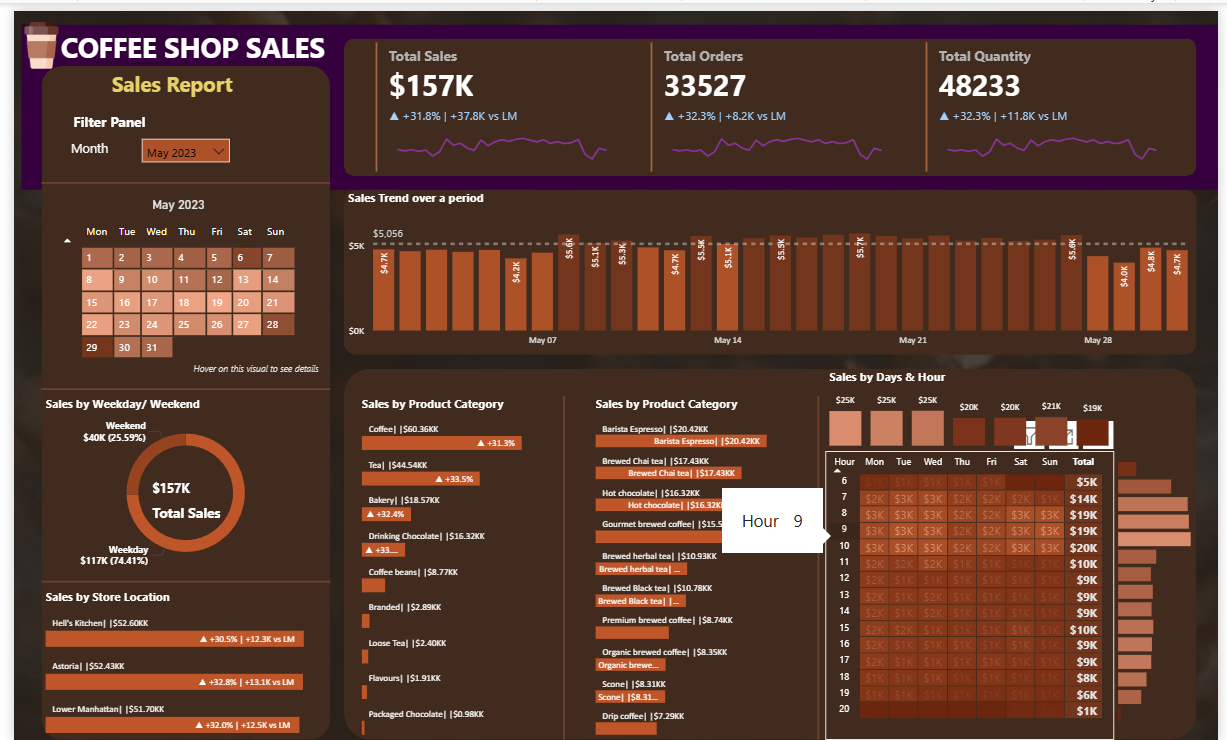

The dashboard page shown, as its layout file describes it:
{"tool":"powerbi","page":{"name":"Page 1","canvas":[1400,850],"ordinal":0},"visuals":[{"type":"shape","box":[8,16,1392,192],"z":0},{"type":"shape","box":[32,64,336,784],"z":1000},{"type":"shape","box":[384,32,992,160],"z":2000},{"type":"textbox","box":[32,16,352,64],"z":3000},{"type":"slicer","fields":{"Values":["Date Table.Month Year"]},"box":[144,144,112,32],"z":4000},{"type":"group","id":"g1","title":"Group 1","box":[416,32,288,160],"z":5000,"group":"g4"},{"type":"cardVisual","fields":{"Data":["Transactions.Total Sales"]},"box":[416,32,288,160],"z":5000,"group":"g1"},{"type":"cardVisual","fields":{"Data":["Transactions.Total Orders"]},"box":[736,32,288,160],"z":5000,"group":"g2"},{"type":"cardVisual","fields":{"Data":["Transactions.Total Quantity"]},"box":[1056,32,288,160],"z":5000,"group":"g3"},{"type":"pivotTable","fields":{"Rows":["Date Table.Week Number"],"Values":["Min(Date Table.Day Number)"],"Columns":["Date Table.Day Name"]},"box":[48,240,288,176],"z":5000},{"type":"group","id":"g2","title":"Group 1","box":[736,32,288,160],"z":6000,"group":"g4"},{"type":"lineChart","fields":{"Y":["Transactions.Total Sales"],"Category":["Date Table.Date.Variation.Date Hierarchy.Year","Date Table.Date.Variation.Date Hierarchy.Quarter","Date Table.Date.Variation.Date Hierarchy.Month","Date Table.Date.Variation.Date Hierarchy.Day"]},"box":[432,112,272,80],"z":6000,"group":"g1"},{"type":"lineChart","fields":{"Y":["Transactions.Total Sales"],"Category":["Date Table.Date.Variation.Date Hierarchy.Year","Date Table.Date.Variation.Date Hierarchy.Quarter","Date Table.Date.Variation.Date Hierarchy.Month","Date Table.Date.Variation.Date Hierarchy.Day"]},"box":[752,112,272,80],"z":6000,"group":"g2"},{"type":"lineChart","fields":{"Y":["Transactions.Total Sales"],"Category":["Date Table.Date.Variation.Date Hierarchy.Year","Date Table.Date.Variation.Date Hierarchy.Quarter","Date Table.Date.Variation.Date Hierarchy.Month","Date Table.Date.Variation.Date Hierarchy.Day"]},"box":[1072,112,272,80],"z":6000,"group":"g3"},{"type":"cardVisual","fields":{"Data":["Min(Date Table.Month Year)"]},"box":[144,192,112,48],"z":6000},{"type":"group","id":"g3","title":"Group 1","box":[1056,32,288,160],"z":7000,"group":"g4"},{"type":"cardVisual","fields":{"Data":["Transactions.Foot Note"]},"box":[192,384,192,48],"z":7000},{"type":"shape","box":[32,432,336,16],"z":8000},{"type":"shape","box":[32,192,336,16],"z":9000},{"type":"donutChart","title":" Sales by Weekday/ Weekend","fields":{"Category":["Date Table.Weekday/ Weekend"],"Y":["Transactions.Total Sales"]},"box":[32,448,336,208],"z":10000},{"type":"cardVisual","fields":{"Data":["Transactions.Total Sales"]},"box":[144,528,128,80],"z":11000},{"type":"shape","box":[32,656,336,16],"z":12000},{"type":"clusteredBarChart","title":"Sales by Store Location","fields":{"Category":["Transactions.store_location"],"Y":["Transactions.Placeholder","Transactions.Total Sales"]},"box":[32,672,336,176],"z":13000},{"type":"shape","box":[384,208,992,192],"z":14000},{"type":"columnChart","title":"Sales Trend over a period","fields":{"Category":["Transactions.transaction_date"],"Y":["Transactions.Total Sales"]},"box":[384,208,992,192],"z":15000},{"type":"shape","box":[384,416,992,432],"z":16000},{"type":"clusteredBarChart","title":"Sales by Product Category","fields":{"Y":["Transactions.Placeholder","Transactions.Total Sales"],"Category":["Transactions.product_category"]},"box":[400,448,224,400],"z":17000},{"type":"shape","box":[624,448,32,400],"z":18000},{"type":"clusteredBarChart","title":"Sales by Product Category","fields":{"Y":["Transactions.Placeholder","Transactions.Total Sales"],"Category":["Transactions.product_type"]},"box":[672,448,240,400],"z":19000},{"type":"shape","box":[928,448,16,400],"z":20000},{"type":"pivotTable","fields":{"Rows":["Transactions.Hour"],"Columns":["Date Table.Day Name"],"Values":["Transactions.Total Sales"]},"box":[944,512,336,336],"z":21000},{"type":"barChart","fields":{"Category":["Transactions.Hour"],"Y":["Transactions.Total Sales"]},"box":[1280,512,96,320],"z":22000},{"type":"columnChart","title":"Sales by Days & Hour","fields":{"Y":["Transactions.Total Sales"],"Category":["Date Table.Day Name"]},"box":[944,416,336,96],"z":23000},{"type":"group","id":"g4","title":"Group 2","box":[416,32,928,160],"z":24000},{"type":"textbox","box":[48,144,80,32],"z":25000},{"type":"textbox","box":[96,64,176,48],"z":26000},{"type":"textbox","box":[64,112,144,32],"z":27000},{"type":"image","box":[0,0,64,80],"z":28000}]}

Visuals, with their boxes in screenshot pixels (x1, y1, x2, y2), scaled from the page's 1400x850 canvas onto the 1227x740 screenshot:
shape: detection(7, 14, 1226, 181)
shape: detection(28, 56, 323, 738)
shape: detection(337, 28, 1206, 167)
textbox: detection(28, 14, 337, 70)
slicer - Date Table.Month Year: detection(126, 125, 224, 153)
"Group 1" group: detection(365, 28, 617, 167)
cardVisual - Transactions.Total Sales: detection(365, 28, 617, 167)
cardVisual - Transactions.Total Orders: detection(645, 28, 897, 167)
cardVisual - Transactions.Total Quantity: detection(926, 28, 1178, 167)
pivotTable - Date Table.Week Number x Min(Date Table.Day Number): detection(42, 209, 294, 362)
"Group 1" group: detection(645, 28, 897, 167)
lineChart - Transactions.Total Sales x Date Table.Date.Variation.Date Hierarchy.Year: detection(379, 98, 617, 167)
lineChart - Transactions.Total Sales x Date Table.Date.Variation.Date Hierarchy.Year: detection(659, 98, 897, 167)
lineChart - Transactions.Total Sales x Date Table.Date.Variation.Date Hierarchy.Year: detection(940, 98, 1178, 167)
cardVisual - Min(Date Table.Month Year): detection(126, 167, 224, 209)
"Group 1" group: detection(926, 28, 1178, 167)
cardVisual - Transactions.Foot Note: detection(168, 334, 337, 376)
shape: detection(28, 376, 323, 390)
shape: detection(28, 167, 323, 181)
" Sales by Weekday/ Weekend" donutChart: detection(28, 390, 323, 571)
cardVisual - Transactions.Total Sales: detection(126, 460, 238, 529)
shape: detection(28, 571, 323, 585)
"Sales by Store Location" clusteredBarChart: detection(28, 585, 323, 738)
shape: detection(337, 181, 1206, 348)
"Sales Trend over a period" columnChart: detection(337, 181, 1206, 348)
shape: detection(337, 362, 1206, 738)
"Sales by Product Category" clusteredBarChart: detection(351, 390, 547, 738)
shape: detection(547, 390, 575, 738)
"Sales by Product Category" clusteredBarChart: detection(589, 390, 799, 738)
shape: detection(813, 390, 827, 738)
pivotTable - Transactions.Hour x Date Table.Day Name: detection(827, 446, 1122, 738)
barChart - Transactions.Hour x Transactions.Total Sales: detection(1122, 446, 1206, 724)
"Sales by Days & Hour" columnChart: detection(827, 362, 1122, 446)
"Group 2" group: detection(365, 28, 1178, 167)
textbox: detection(42, 125, 112, 153)
textbox: detection(84, 56, 238, 98)
textbox: detection(56, 98, 182, 125)
image: detection(0, 0, 56, 70)
